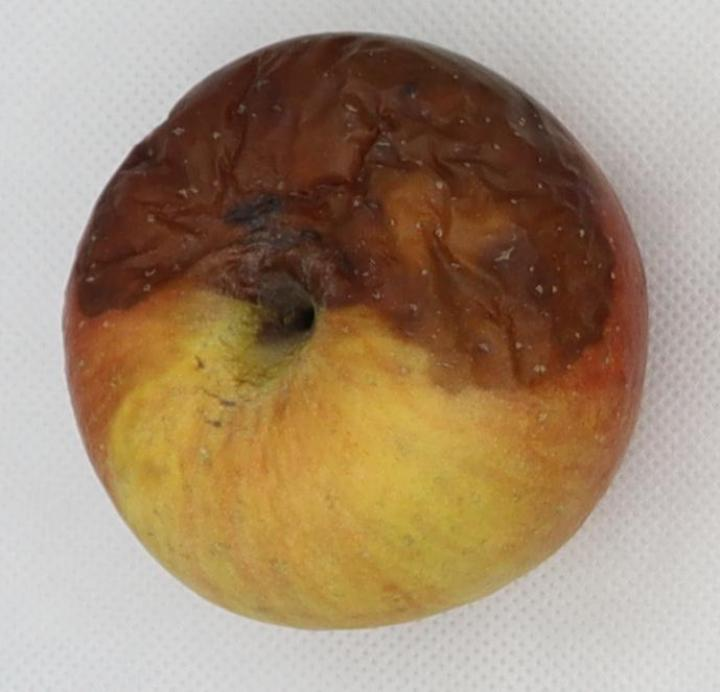apple: (65, 34, 646, 628)
rot_mold_decay: (76, 34, 621, 385)
